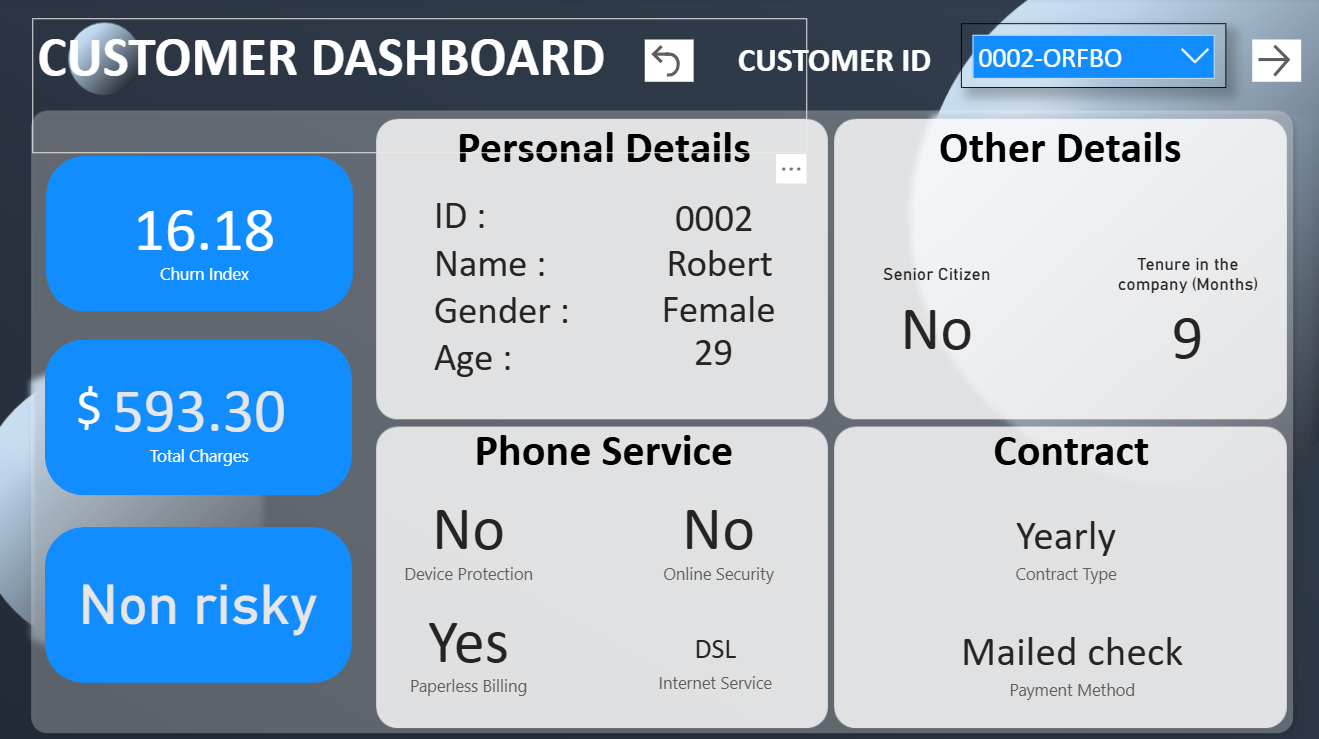

This screenshot's page, from the dashboard's own definition file:
{"tool":"powerbi","page":{"name":"Customer Details","canvas":[1280,720],"ordinal":2},"visuals":[{"type":"card","fields":{"Values":["Min(Telco-Churn-Analysis-Predictions.ID)"]},"box":[647.8,183.5,91,56.5],"z":0},{"type":"card","fields":{"Values":["Min(Telco-Churn-Analysis-Predictions.gender)"]},"box":[608.6,271.4,178.8,56.5],"z":1000},{"type":"card","title":"Tenure in the company (Months)","fields":{"Values":["Sum(Telco-Churn-Analysis-Predictions.tenure)"]},"box":[1062,247.8,177.3,111.4],"z":2000},{"type":"card","fields":{"Values":["Min(Telco-Churn-Analysis-Predictions.Contract Type)"]},"box":[950.6,472.2,164.7,112.9],"z":3000},{"type":"card","title":"Senior Citizen","fields":{"Values":["Min(Telco-Churn-Analysis-Predictions.SeniorCitizen)"]},"box":[847.1,257.3,122.4,95.7],"z":4000},{"type":"card","fields":{"Values":["Min(Telco-Churn-Analysis-Predictions.DeviceProtection)"]},"box":[371.8,451.8,169.4,133.3],"z":5000},{"type":"card","fields":{"Values":["Min(Telco-Churn-Analysis-Predictions.InternetService)"]},"box":[594.5,572.5,199.2,133.3],"z":6000},{"type":"card","fields":{"Values":["Min(Telco-Churn-Analysis-Predictions.PaperlessBilling)"]},"box":[371.8,560,169.4,133.3],"z":7000},{"type":"card","fields":{"Values":["Min(Telco-Churn-Analysis-Predictions.OnlineSecurity)"]},"box":[613.3,451.8,169.4,133.3],"z":8000},{"type":"slicer","fields":{"Values":["Telco-Churn-Analysis-Predictions.customerID"]},"box":[931.8,25.1,255.7,62.7],"z":9000},{"type":"textbox","box":[687.1,36.1,221.2,86.3],"z":10000},{"type":"textbox","box":[417.3,183.5,188.2,357.6],"z":11000},{"type":"textbox","box":[641.6,229,166.3,62.7],"z":12000},{"type":"textbox","box":[668.2,315.3,114.5,64.3],"z":13000},{"type":"textbox","box":[365.5,112.9,442.4,70.6],"z":14000},{"type":"textbox","box":[365.5,406.3,442.4,75.3],"z":15000},{"type":"textbox","box":[829.8,406.3,415.7,75.3],"z":16000},{"type":"card","fields":{"Values":["Min(Telco-Churn-Analysis-Predictions.PaymentMethod)"]},"box":[889.4,586.7,299.6,106.7],"z":17000},{"type":"shape","box":[48.6,153.7,296.5,150.6],"z":18000},{"type":"card","fields":{"Values":["Sum(Telco-Churn-Analysis-Predictions.Prediction)"]},"box":[116.1,164.7,171,127.1],"z":19000},{"type":"shape","box":[47.1,331,296.5,150.6],"z":20000},{"type":"shape","box":[47.1,511.4,296.5,150.6],"z":21000},{"type":"card","fields":{"Values":["Sum(Telco-Churn-Analysis-Predictions.TotalCharges)"]},"box":[72.2,346.7,247.8,116.1],"z":22000},{"type":"card","fields":{"Values":["Min(Telco-Churn-Analysis-Predictions.Risk)"]},"box":[48.6,552.2,294.9,75.3],"z":23000},{"type":"textbox","box":[34.5,20.4,748.2,130.2],"z":24000},{"type":"textbox","box":[807.8,112.9,437.6,70.6],"z":25000},{"type":"textbox","box":[72.2,362.4,56.5,100.4],"z":26000},{"type":"actionButton","box":[625.9,41.3,47.1,40.8],"z":27000},{"type":"actionButton","box":[1212.5,40.8,47.1,40.8],"z":28000}]}

Visuals, with their boxes in screenshot pixels (x1, y1, x2, y2), scaled from the page's 1280x720 canvas onto the 1319x739 screenshot:
card - Min(Telco-Churn-Analysis-Predictions.ID): 668/188/761/246
card - Min(Telco-Churn-Analysis-Predictions.gender): 627/279/811/337
"Tenure in the company (Months)" card: 1094/254/1277/369
card - Min(Telco-Churn-Analysis-Predictions.Contract Type): 980/485/1149/601
"Senior Citizen" card: 873/264/999/362
card - Min(Telco-Churn-Analysis-Predictions.DeviceProtection): 383/464/558/601
card - Min(Telco-Churn-Analysis-Predictions.InternetService): 613/588/818/724
card - Min(Telco-Churn-Analysis-Predictions.PaperlessBilling): 383/575/558/712
card - Min(Telco-Churn-Analysis-Predictions.OnlineSecurity): 632/464/807/601
slicer - Telco-Churn-Analysis-Predictions.customerID: 960/26/1224/90
textbox: 708/37/936/126
textbox: 430/188/624/555
textbox: 661/235/833/299
textbox: 689/324/807/390
textbox: 377/116/833/188
textbox: 377/417/833/494
textbox: 855/417/1283/494
card - Min(Telco-Churn-Analysis-Predictions.PaymentMethod): 916/602/1225/712
shape: 50/158/356/312
card - Sum(Telco-Churn-Analysis-Predictions.Prediction): 120/169/296/300
shape: 49/340/354/494
shape: 49/525/354/679
card - Sum(Telco-Churn-Analysis-Predictions.TotalCharges): 74/356/330/475
card - Min(Telco-Churn-Analysis-Predictions.Risk): 50/567/354/644
textbox: 36/21/807/155
textbox: 832/116/1283/188
textbox: 74/372/133/475
actionButton: 645/42/694/84
actionButton: 1249/42/1298/84
